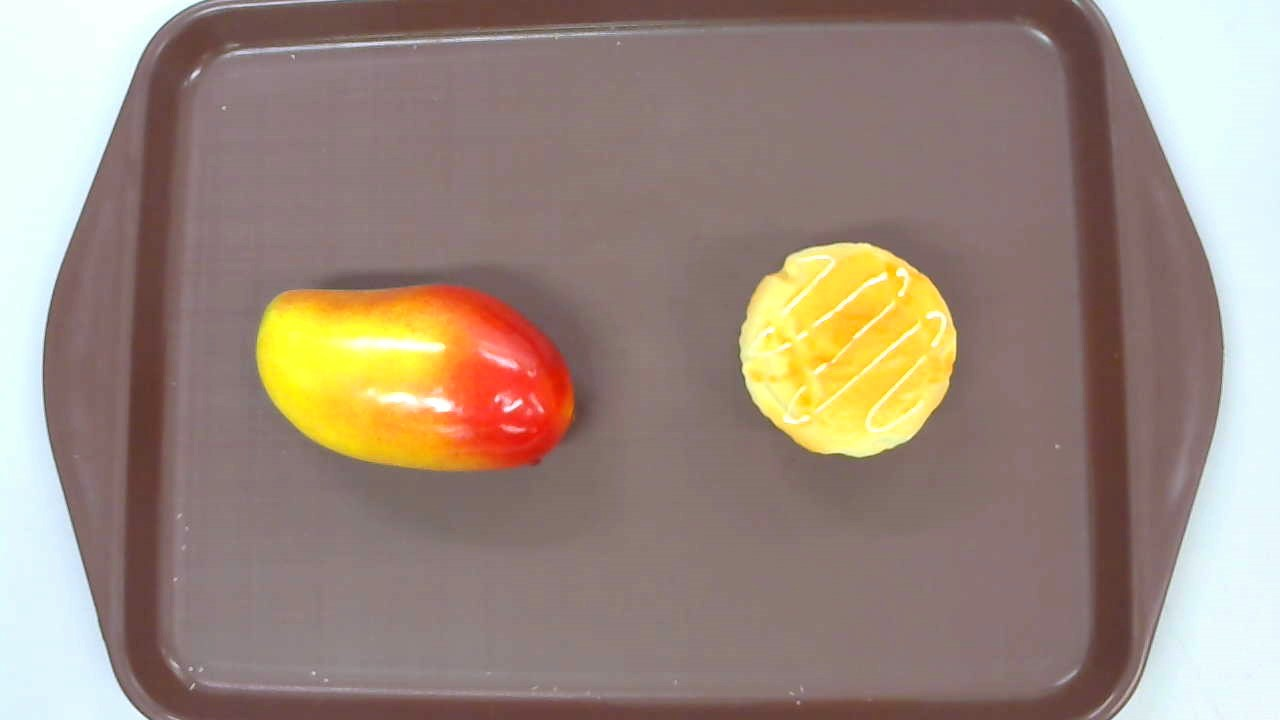cupcake: (739, 243, 958, 458)
red mango: (255, 284, 576, 472)
